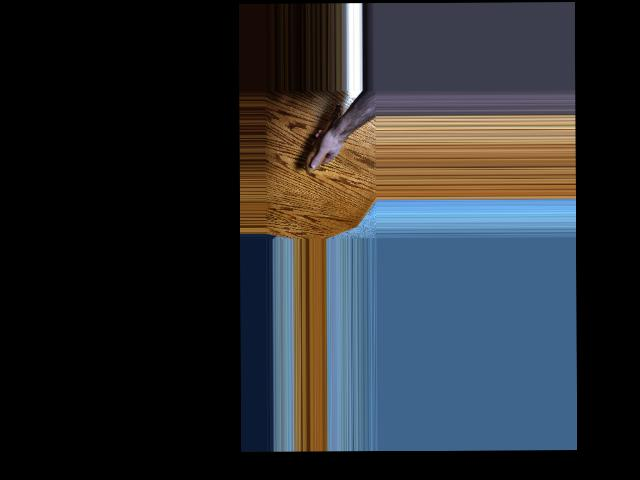sweet_potato: (306, 102, 344, 170)
